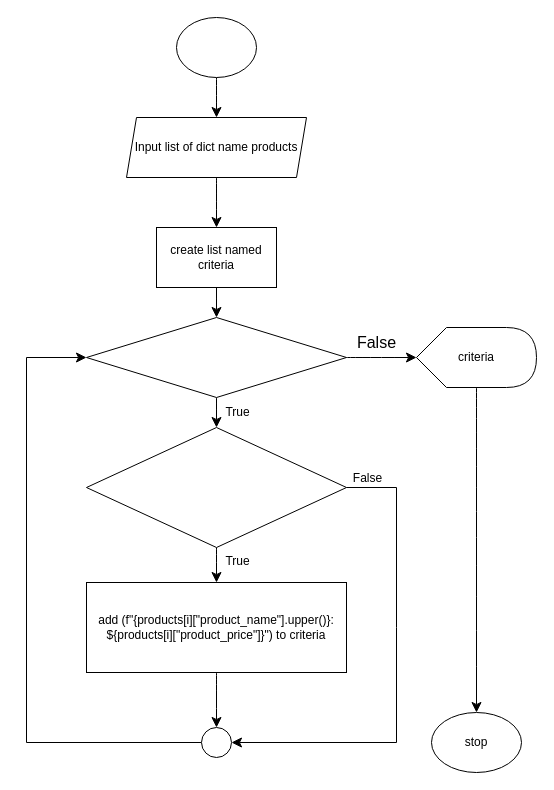
Some shapes in this 554 by 790 pixel diagram are drawn without their labels. The centre of each missing label's shape, as x and y in pixels:
for i in range (0,len(products)): [216,357]
if (products[i]["product_price"] > 20 and products[i]["shop_rating"] >= 4.5): [216,487]
start: [216,47]
